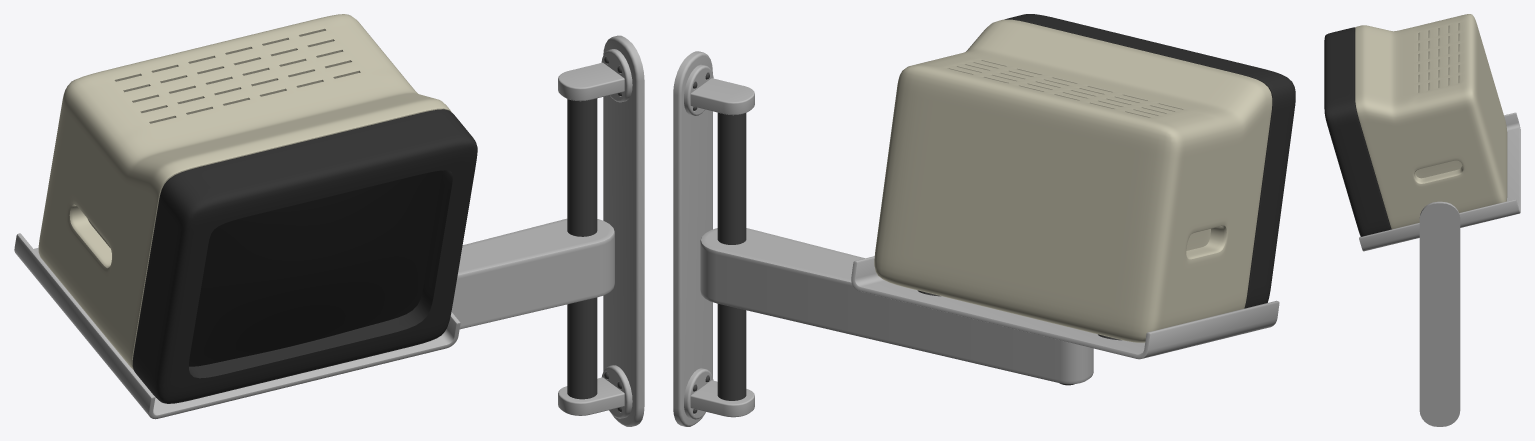
The model's file is TV_wall.fbx.
3 views of the same model, side by side, from view 1: azimuth 30°, elevation 25°; view 2: azimuth 150°, elevation 25°; view 3: azimuth 270°, elevation 25° (orthographic). The views are drawn at different scales.
Parts seen in each view (by area): view 1: cadnav.com; view 2: cadnav.com; view 3: cadnav.com.
Part boxes in pixels (x1=…): cadnav.com: x1=14, y1=14, x2=644, y2=426; cadnav.com: x1=673, y1=14, x2=1295, y2=426; cadnav.com: x1=1324, y1=14, x2=1520, y2=426.
Bounding box in the file's own units: 284 × 226 × 152.
